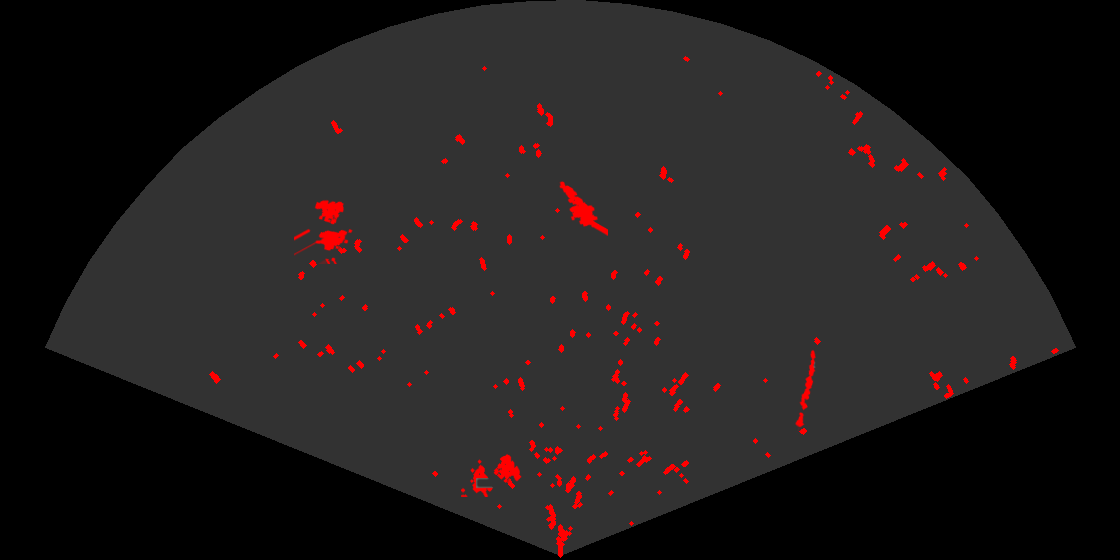cage: (294, 198, 354, 264), (461, 452, 523, 497)
chain: (794, 348, 817, 431)
frogman: (558, 180, 608, 236)
